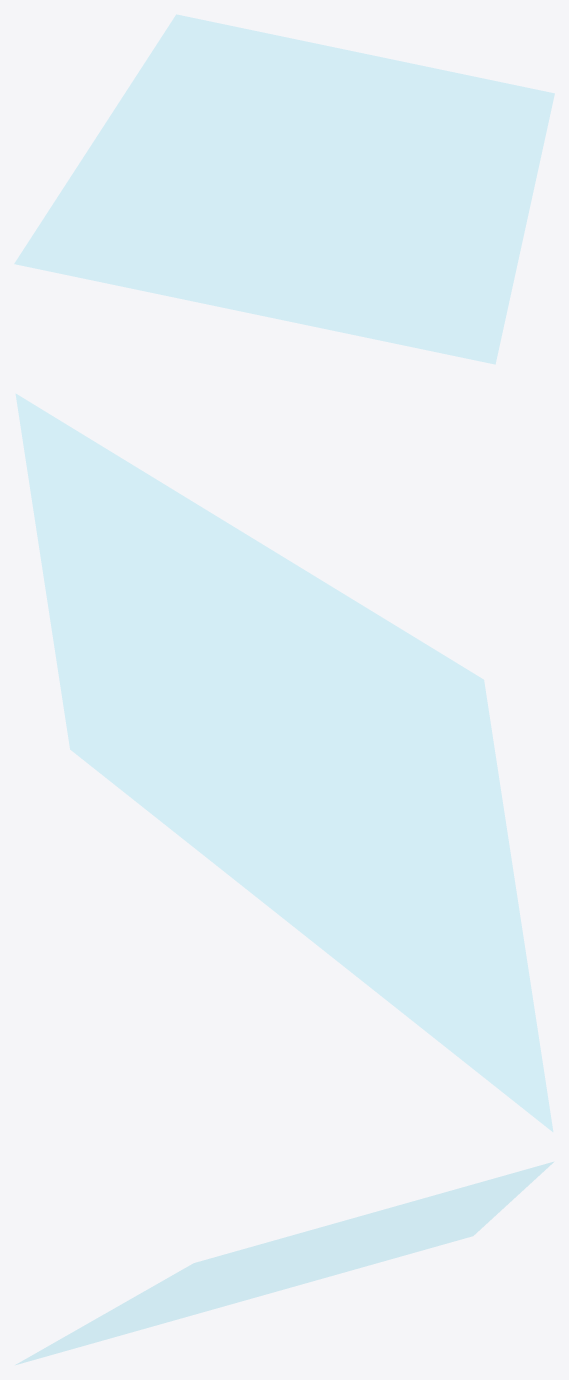
File: windowCorrCar.glb
3 views of the same model, one above another, from view 1: azimuth 30°, elevation 25°; view 2: azimuth 150°, elevation 25°; view 3: azimuth 270°, elevation 25° (orthographic). The views are drawn at different scales.
Parts seen in each view (by area): view 1: WindowCar; view 2: WindowCar; view 3: WindowCar.
Boxes of the visible parts, <box> form: WindowCar: <box>14,14,554,364</box>; WindowCar: <box>15,393,553,1131</box>; WindowCar: <box>15,1161,554,1365</box>.
Size of the model in its own units: 1.62 by 0.6551 by 1.82.
